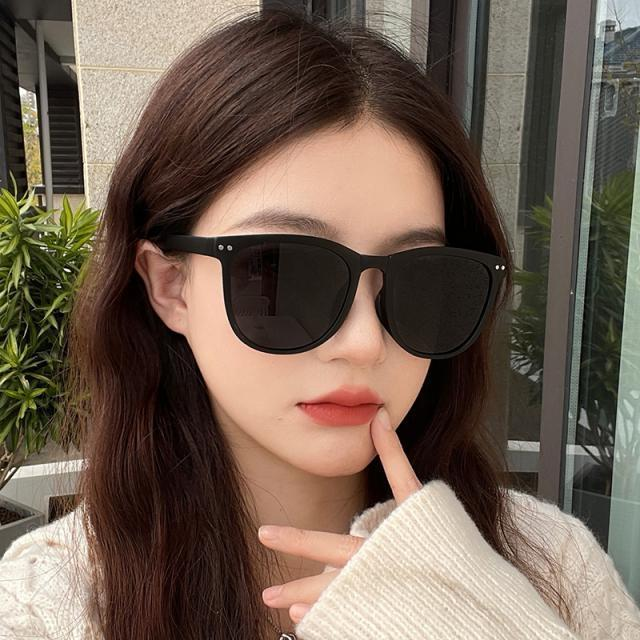2_gafas: (159, 234, 503, 358)
